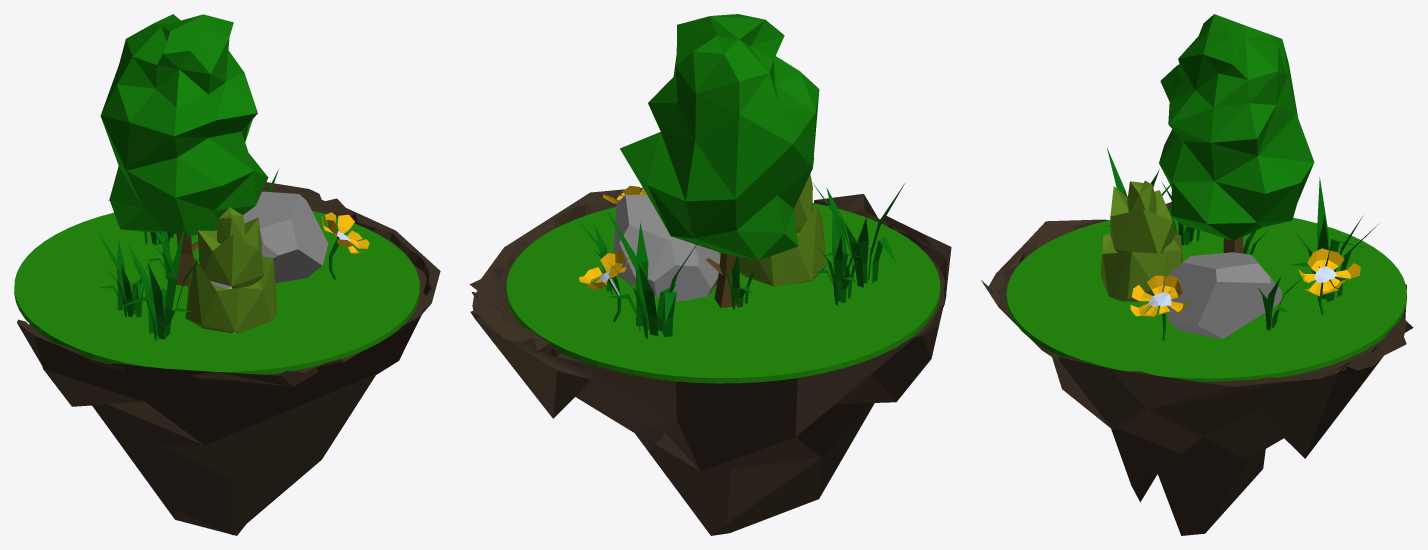
The model's file is medium2disc.gltf.
3 views of the same model, side by side, from view 1: azimuth 30°, elevation 25°; view 2: azimuth 150°, elevation 25°; view 3: azimuth 270°, elevation 25° (orthographic). The views are drawn at different scales.
Parts seen in each view (by area): view 1: Bedrock.001, Ground.001, Tree5Group3, Bush2, Rock.001, Grass-m.002, Grass-m.005, flower2.002; view 2: Bedrock.001, Ground.001, Tree5Group3, Rock.001, Bush2, Grass-m.001, Grass-m.002, Grass-m.005, flower2.001, Grass-s.002; view 3: Ground.001, Bedrock.001, Tree5Group3, Rock.001, Bush2, flower2.001, flower2.002, Grass-m.001, Grass-s.001.
Part boxes in pixels (x1,y1,x2,y2): Bedrock.001: [17, 182, 440, 535]; Ground.001: [14, 210, 419, 374]; Tree5Group3: [100, 14, 268, 286]; Bush2: [185, 207, 277, 333]; Rock.001: [215, 191, 328, 283]; Grass-m.002: [115, 224, 201, 341]; Grass-m.005: [98, 232, 153, 317]; flower2.002: [321, 212, 369, 279]; Bedrock.001: [469, 187, 951, 535]; Ground.001: [506, 203, 940, 383]; Tree5Group3: [620, 14, 819, 307]; Rock.001: [613, 194, 720, 301]; Bush2: [738, 174, 826, 286]; Grass-m.001: [605, 208, 700, 339]; Grass-m.002: [811, 181, 904, 287]; Grass-m.005: [812, 208, 877, 305]; flower2.001: [579, 249, 629, 321]; Grass-s.002: [716, 256, 762, 309]; Ground.001: [1006, 211, 1406, 381]; Bedrock.001: [981, 202, 1413, 535]; Tree5Group3: [1159, 14, 1314, 253]; Rock.001: [1162, 252, 1281, 338]; Bush2: [1100, 180, 1182, 301]; flower2.001: [1298, 248, 1360, 315]; flower2.002: [1130, 275, 1188, 340]; Grass-m.001: [1288, 177, 1378, 301]; Grass-s.001: [1257, 275, 1305, 330].
Bounding box in the file's own units: 1.83 × 2.29 × 1.8.
